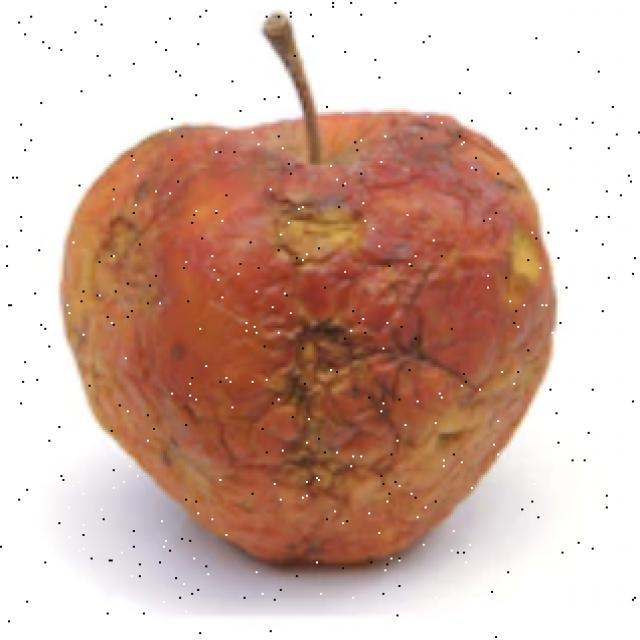Rotten: (65, 108, 533, 547)
